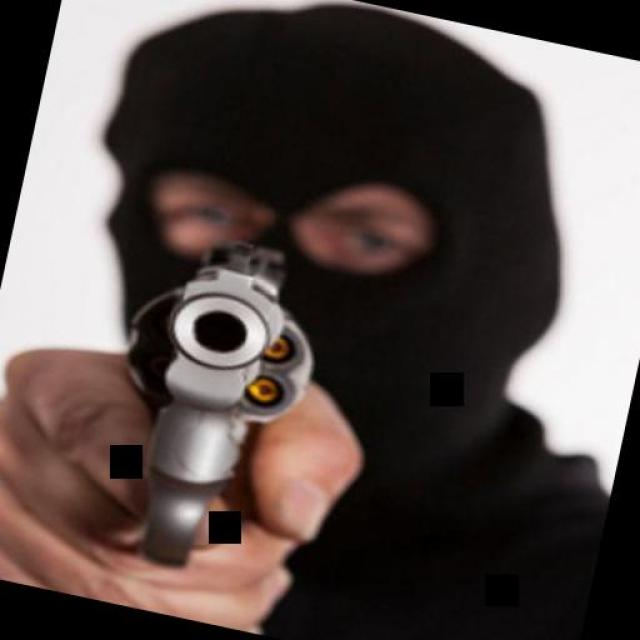gun: (74, 214, 338, 584)
